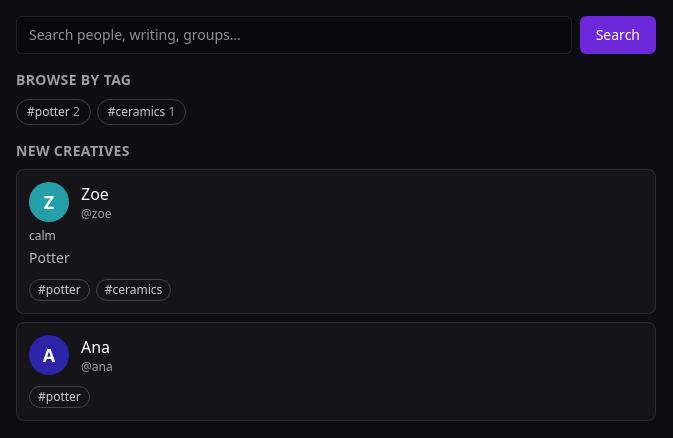
it: SearchPage: searching › goes back to browsing from the results
Type "nobody" into the field with placeholder "Search people, writing, groups…" at (294, 35), box left=16, top=16, right=572, bottom=54
Then press Enter
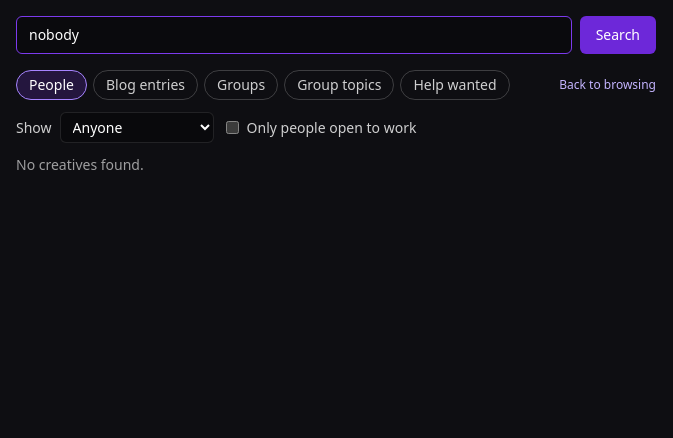
Click the button "Back to browsing" at (608, 85), box left=559, top=77, right=656, bottom=93
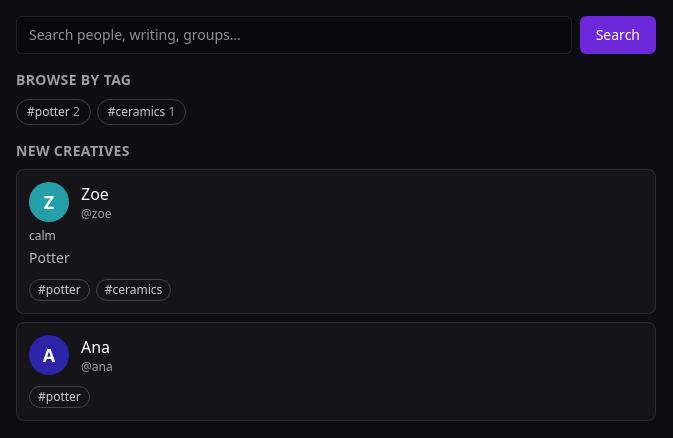
Expected: the element "New creatives" is shown
Expected: the field with placeholder "Search people, writing, groups…" is empty, left=16, top=16, right=572, bottom=54
